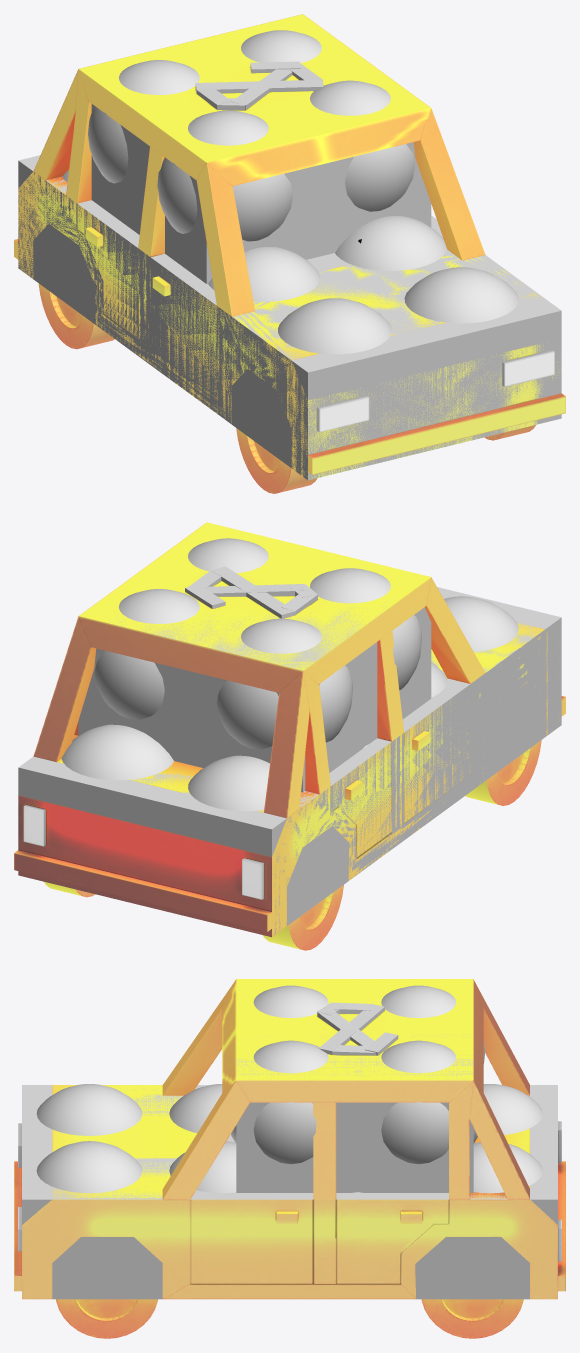
The model's file is car.glb.
The picture shows the model from 3 angles, top to bottom: view 1: azimuth 30°, elevation 25°; view 2: azimuth 150°, elevation 25°; view 3: azimuth 270°, elevation 25°; orthographic projection. The views are drawn at different scales.
Visible parts, largest first — view 1: body, Cube.009, Cube.010, Sphere.008, Sphere.006, Sphere, Sphere.011, Sphere.016, Sphere.010, Sphere.017, 立方體.001, door_4 (+4 smaller); view 2: body, Cube.009, Cube.010, Sphere.010, Sphere.009, Sphere.012, door_4, Sphere.008, Sphere.013, 立方體.001, door_2, Sphere.011 (+3 smaller); view 3: body, Cube.009, Cube.010, door_1, door_3, Sphere.009, Sphere.006, Sphere, Sphere.011, Cylinder.001, wheel_fl, 立方體.001 (+6 smaller).
Part boxes in pixels (<box>): body: <box>14,14,565,479</box>; Cube.009: <box>18,155,561,480</box>; Cube.010: <box>91,14,431,283</box>; Sphere.008: <box>157,110,292,241</box>; Sphere.006: <box>310,80,414,211</box>; Sphere: <box>404,267,518,368</box>; Sphere.011: <box>278,298,391,399</box>; Sphere.016: <box>335,216,446,270</box>; Sphere.010: <box>88,60,199,183</box>; Sphere.017: <box>208,247,320,301</box>; 立方體.001: <box>195,61,323,110</box>; door_4: <box>77,204,138,337</box>; body: <box>14,522,565,937</box>; Cube.009: <box>18,587,561,934</box>; Cube.010: <box>78,602,431,792</box>; Sphere.010: <box>216,618,352,749</box>; Sphere.009: <box>94,589,199,719</box>; Sphere.012: <box>61,724,173,780</box>; door_4: <box>331,742,391,857</box>; Sphere.008: <box>310,568,421,690</box>; Sphere.013: <box>188,755,269,811</box>; 立方體.001: <box>185,566,317,618</box>; door_2: <box>404,699,470,823</box>; Sphere.011: <box>444,596,518,651</box>; body: <box>14,979,565,1299</box>; Cube.009: <box>22,1085,557,1299</box>; Cube.010: <box>236,1034,473,1192</box>; door_1: <box>190,1199,313,1283</box>; door_3: <box>336,1199,448,1283</box>; Sphere.009: <box>381,1040,477,1164</box>; Sphere.006: <box>230,1040,328,1164</box>; Sphere: <box>36,1141,142,1193</box>; Sphere.011: <box>36,1084,142,1135</box>; Cylinder.001: <box>421,1299,523,1338</box>; wheel_fl: <box>56,1299,157,1338</box>; 立方體.001: <box>317,1002,398,1055</box>.
Size of the model in its own units: 1.28 by 1.31 by 2.49.
3 materials, 3 textured.
